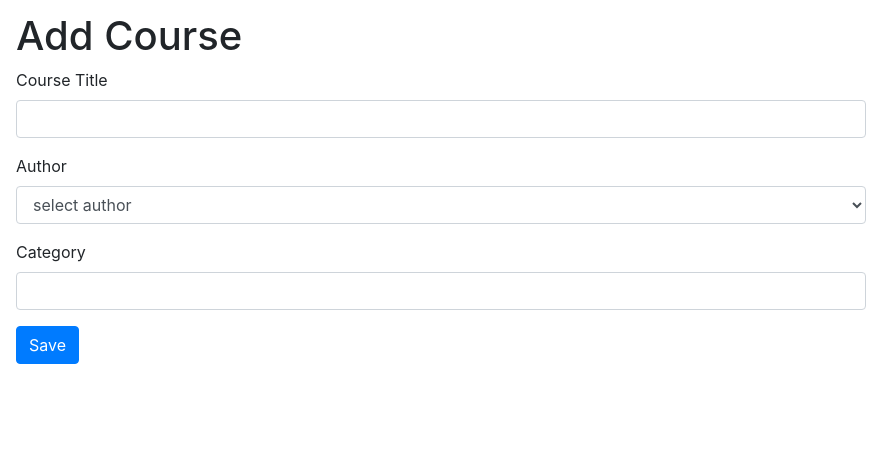
Test: should show errors when form has sumbitted with invalid values
The image size is (883, 465).
In the field named "title": (441, 119) [16,100,866,138], type "!"
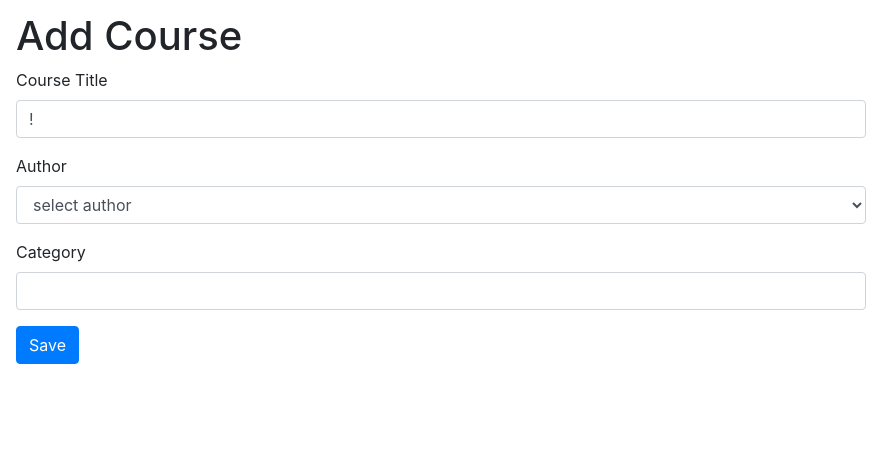
In the field named "category": (441, 291) [16,272,866,310], type "!"
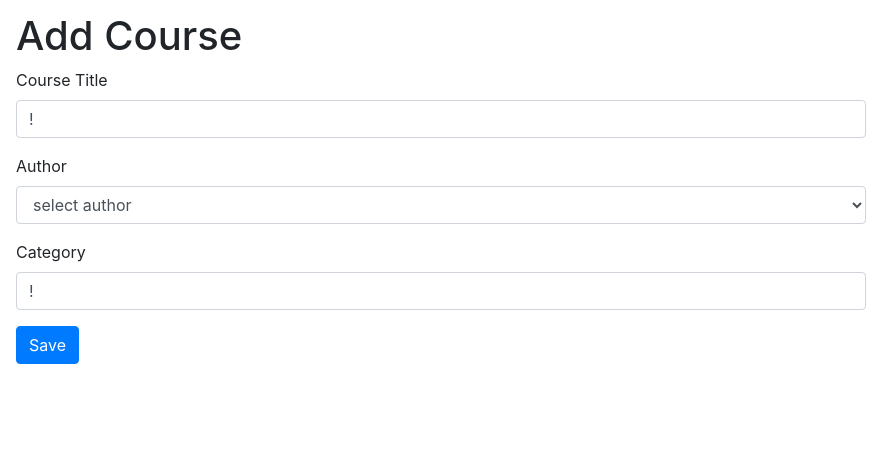
Submit the form
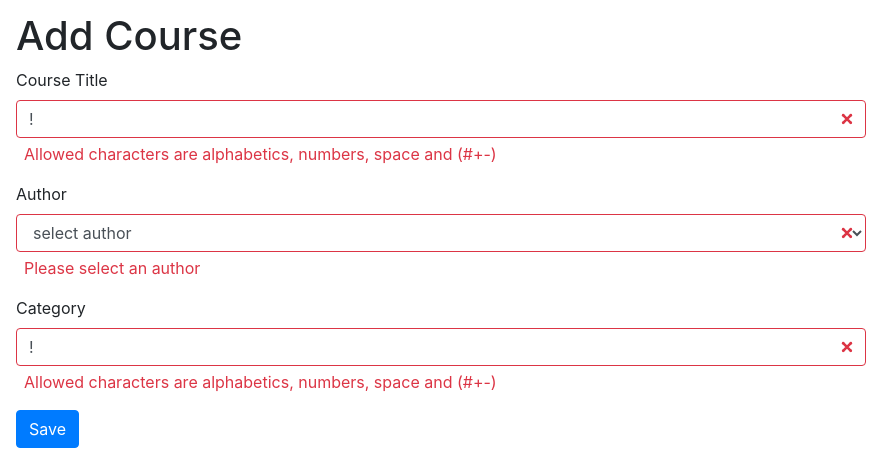
Check: the text "Please select an author" is shown, box [24,258,200,278]
Check: the text "Allowed characters are alphabetics, numbers, space and (#+-)" below "Category" is shown, box [24,372,497,392]
